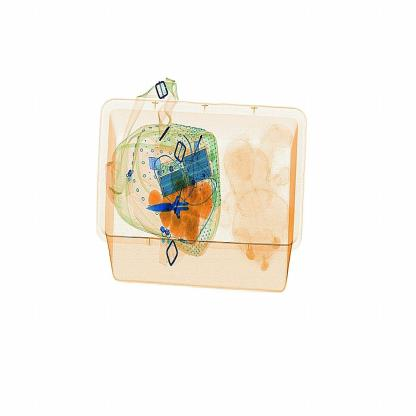gun: (140, 189, 221, 226)
